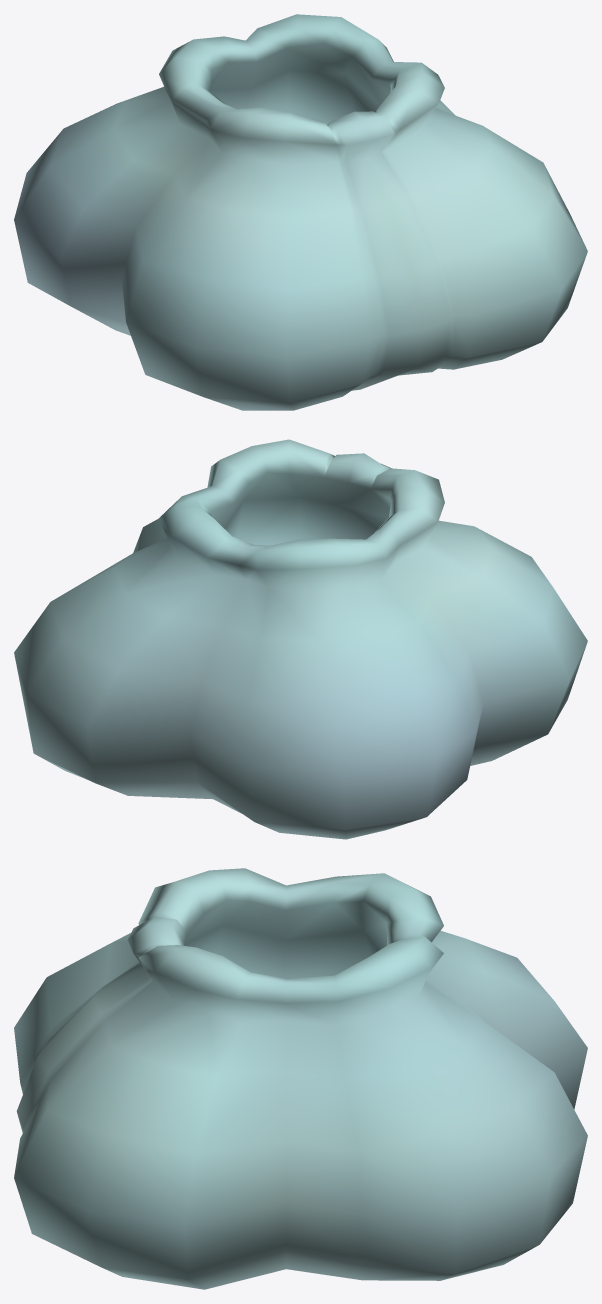
File: VentDynamic.glb
The picture shows the model from 3 angles, top to bottom: view 1: azimuth 30°, elevation 25°; view 2: azimuth 150°, elevation 25°; view 3: azimuth 270°, elevation 25°; orthographic projection. The views are drawn at different scales.
Visible parts, largest first — view 1: VentDynamic; view 2: VentDynamic; view 3: VentDynamic.
Boxes of the visible parts, left/top/right/bottom form: VentDynamic: left=14, top=14, right=587, bottom=410; VentDynamic: left=14, top=439, right=587, bottom=839; VentDynamic: left=14, top=868, right=587, bottom=1289.
Size of the model in its own units: 0.4014 by 0.2393 by 0.4012.
